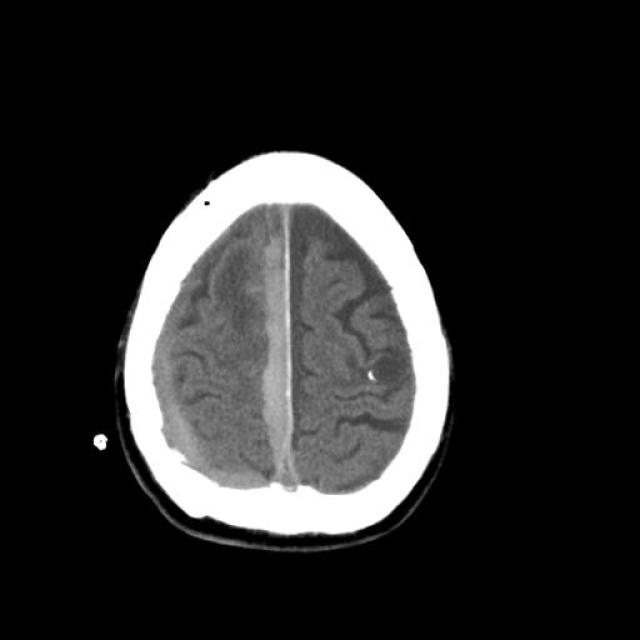Subdural: (244, 178, 322, 512), (142, 243, 216, 478)
